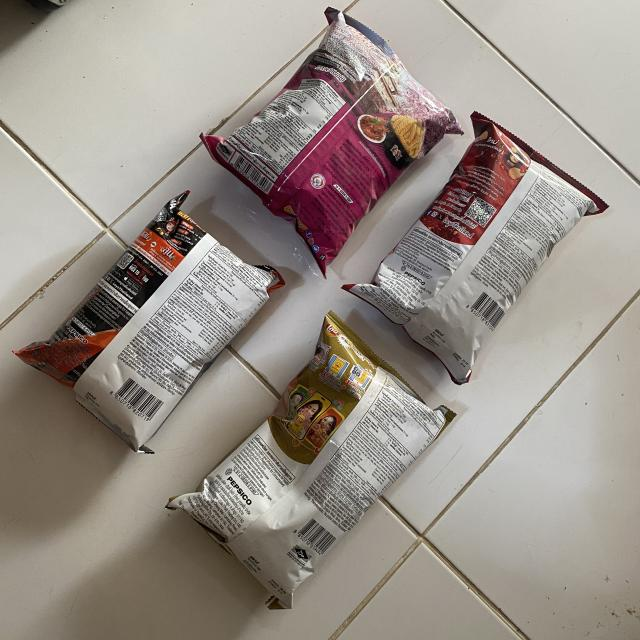plastik: (168, 312, 455, 609), (344, 112, 608, 384), (15, 191, 284, 451), (200, 8, 462, 274)
